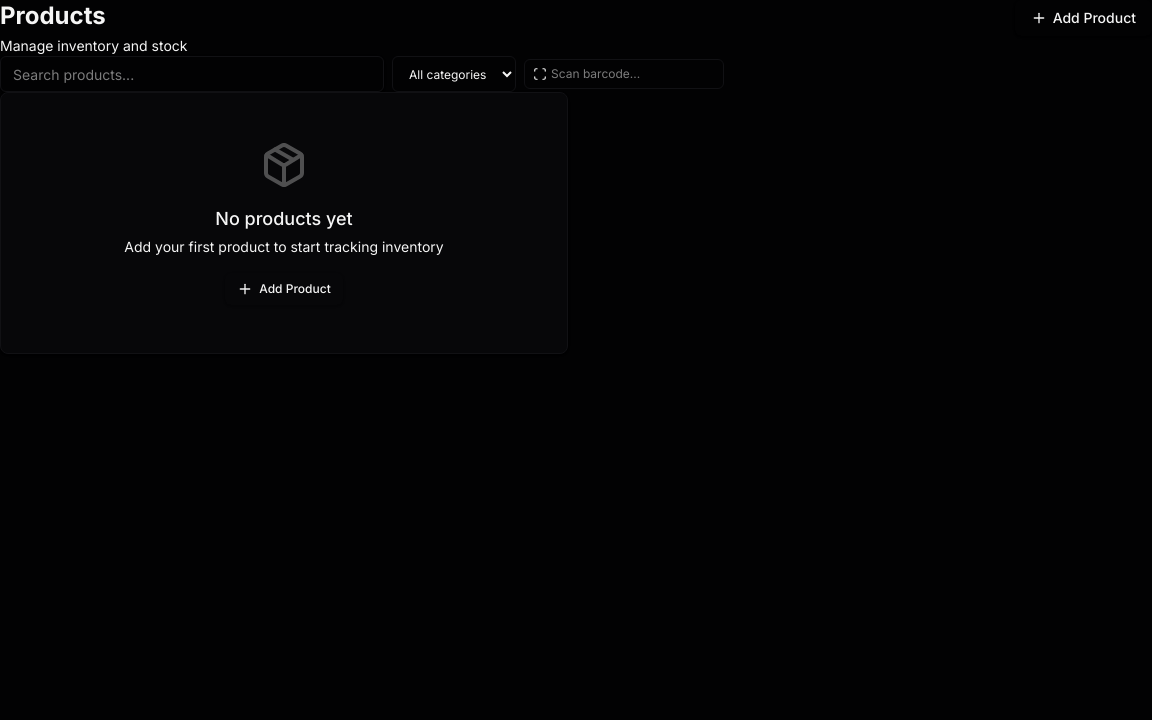
Test: ProductsPage empty state › shows 'No products yet' with an Add Product CTA when the list is empty
This screenshot has width=1152, height=720.
Expected: the text "No products yet" is shown, x1=215 y1=208 x2=353 y2=229
Note: CTA opens the create form
Click the button "Add Product" below "No products yet" at (284, 289), box x1=225 y1=273 x2=343 y2=305
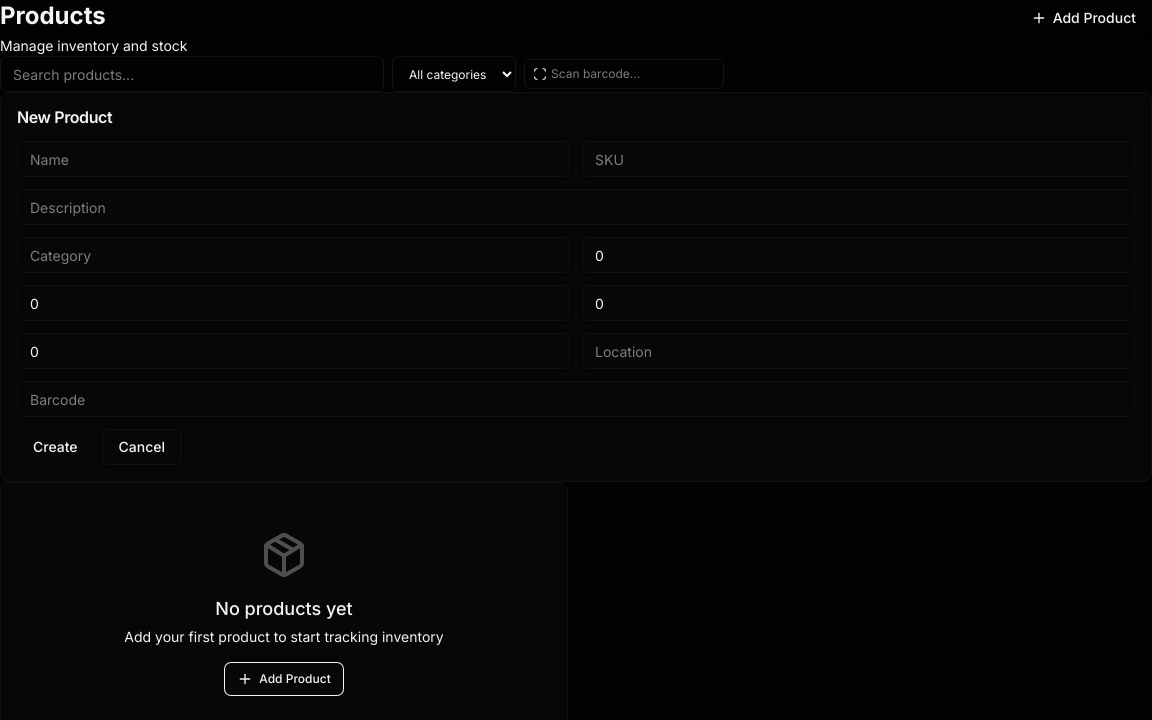
Expected: the heading "New Product" is shown, x1=17 y1=107 x2=112 y2=127
